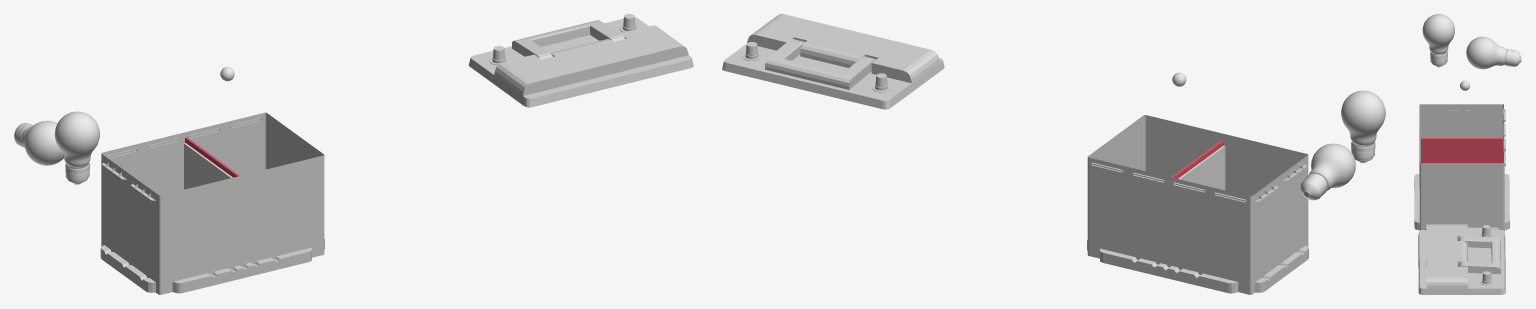
Rendered from highSpeedAgitateAni1.glb.
3 renders of one model, left to right at view 1: azimuth 30°, elevation 25°; view 2: azimuth 150°, elevation 25°; view 3: azimuth 270°, elevation 25°, orthographic. The views are drawn at different scales.
Visible parts, largest first — view 1: carBattery, carBattery.001, bulb_, Plane; view 2: carBattery, carBattery.001, bulb_, Plane; view 3: carBattery, carBattery.001, bulb_, Plane.002, Sphere.
Boxes of the visible parts, x1=… form: carBattery: x1=100, y1=112, x2=324, y2=294; carBattery.001: x1=468, y1=14, x2=693, y2=107; bulb_: x1=14, y1=111, x2=99, y2=184; Plane: x1=184, y1=143, x2=232, y2=189; carBattery: x1=1087, y1=115, x2=1308, y2=294; carBattery.001: x1=722, y1=14, x2=944, y2=109; bulb_: x1=1300, y1=90, x2=1385, y2=200; Plane: x1=1178, y1=145, x2=1225, y2=190; carBattery: x1=1414, y1=104, x2=1509, y2=232; carBattery.001: x1=1418, y1=224, x2=1505, y2=294; bulb_: x1=1422, y1=14, x2=1521, y2=69; Plane.002: x1=1421, y1=138, x2=1504, y2=162; Sphere: x1=1460, y1=80, x2=1469, y2=90.
Bounding box in the file's own units: 2.76 × 0.7963 × 0.5688.
